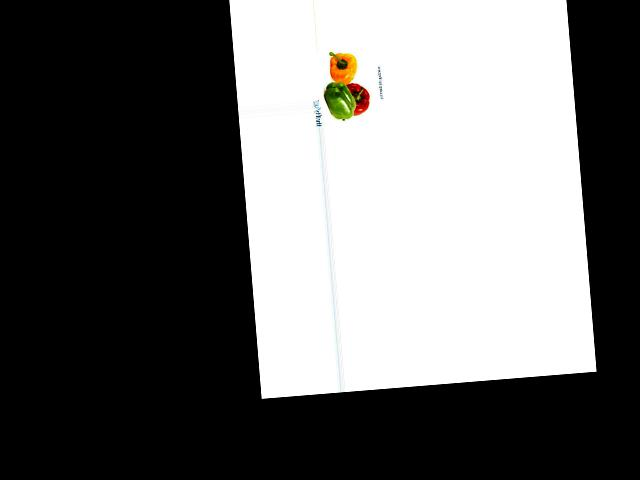bell_pepper: (319, 77, 356, 123)
